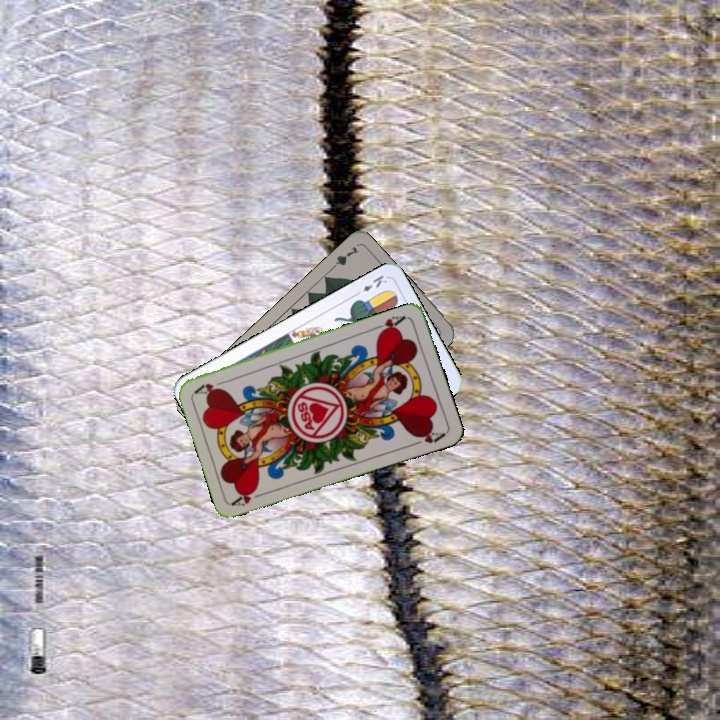EK: (351, 271, 390, 299)
G7: (326, 242, 361, 274)
HA: (229, 484, 269, 509), (370, 312, 408, 337)
